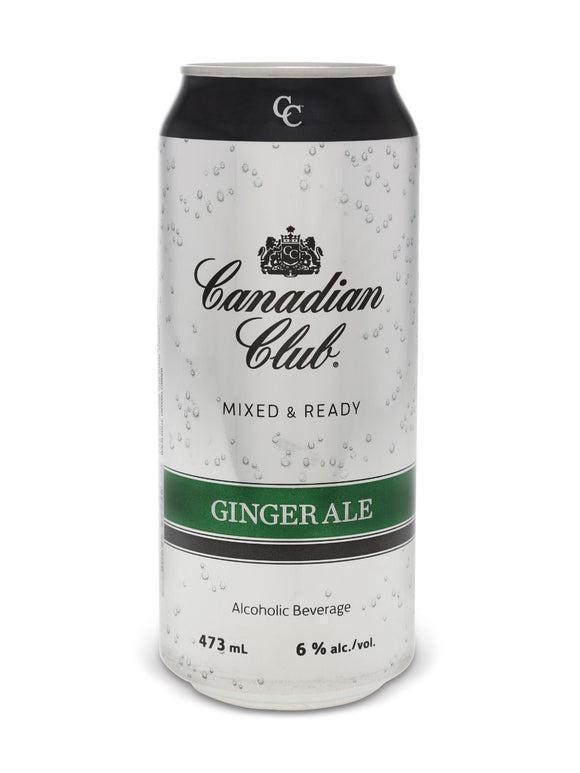tin can: (152, 49, 423, 714)
